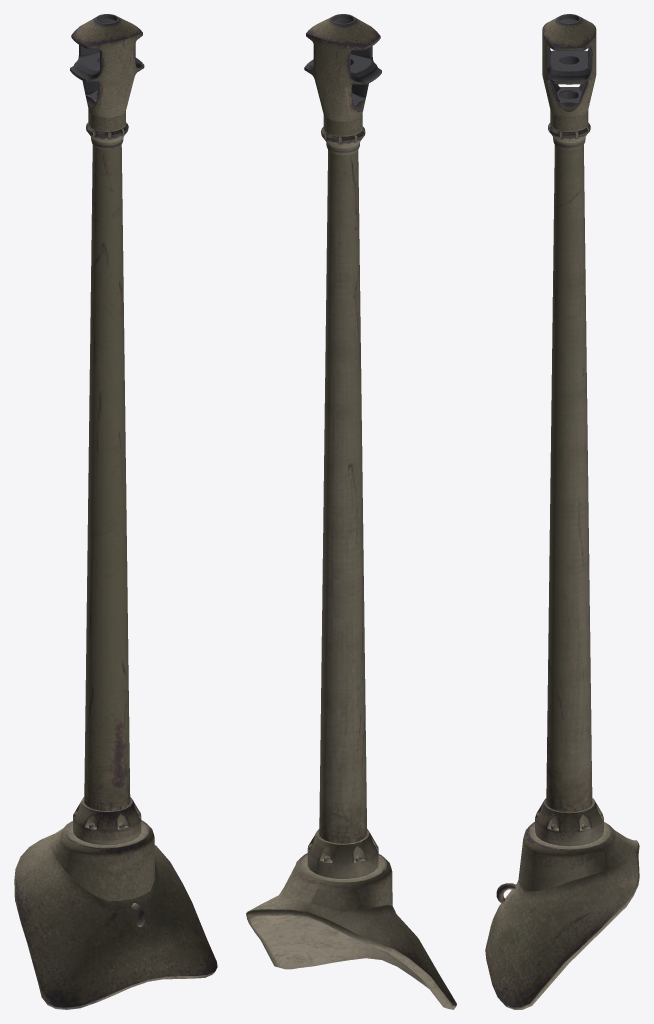
Rendered from Gun_03.glb.
3 renders of one model, left to right at view 1: azimuth 30°, elevation 25°; view 2: azimuth 150°, elevation 25°; view 3: azimuth 270°, elevation 25°, orthographic. The views are drawn at different scales.
Visible parts, largest first — view 1: set_0_group_0; view 2: set_0_group_0; view 3: set_0_group_0.
Part boxes in pixels (<box>): set_0_group_0: <box>14,14,217,1009</box>; set_0_group_0: <box>246,14,456,1009</box>; set_0_group_0: <box>485,14,639,1009</box>.
Bounding box in the file's own units: 1.06 × 5.61 × 0.8244.
1 material, 1 textured.
